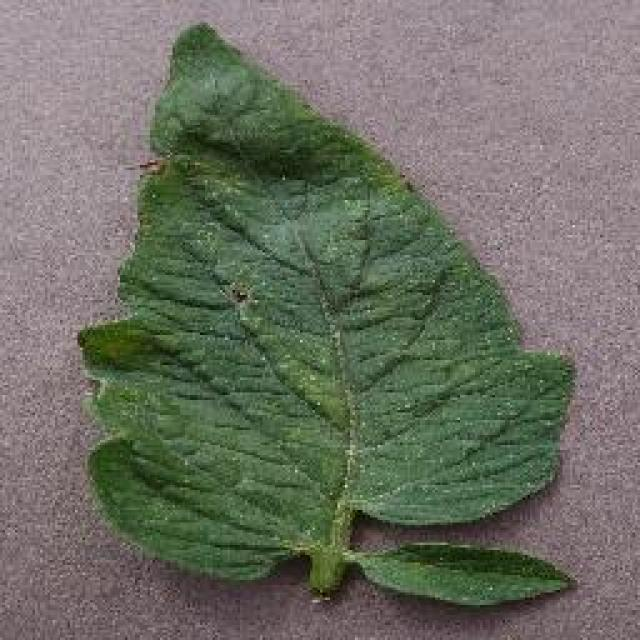Tomato___Target_Spot: (80, 25, 570, 602)
